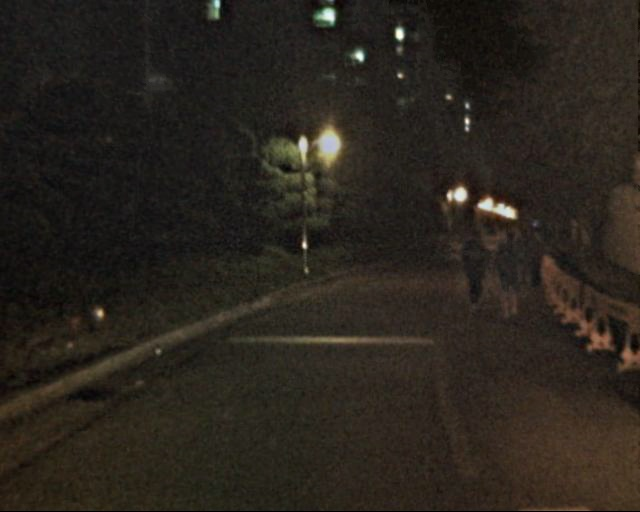person: (490, 229, 529, 323), (453, 230, 491, 323), (523, 226, 549, 289), (513, 225, 538, 286)
